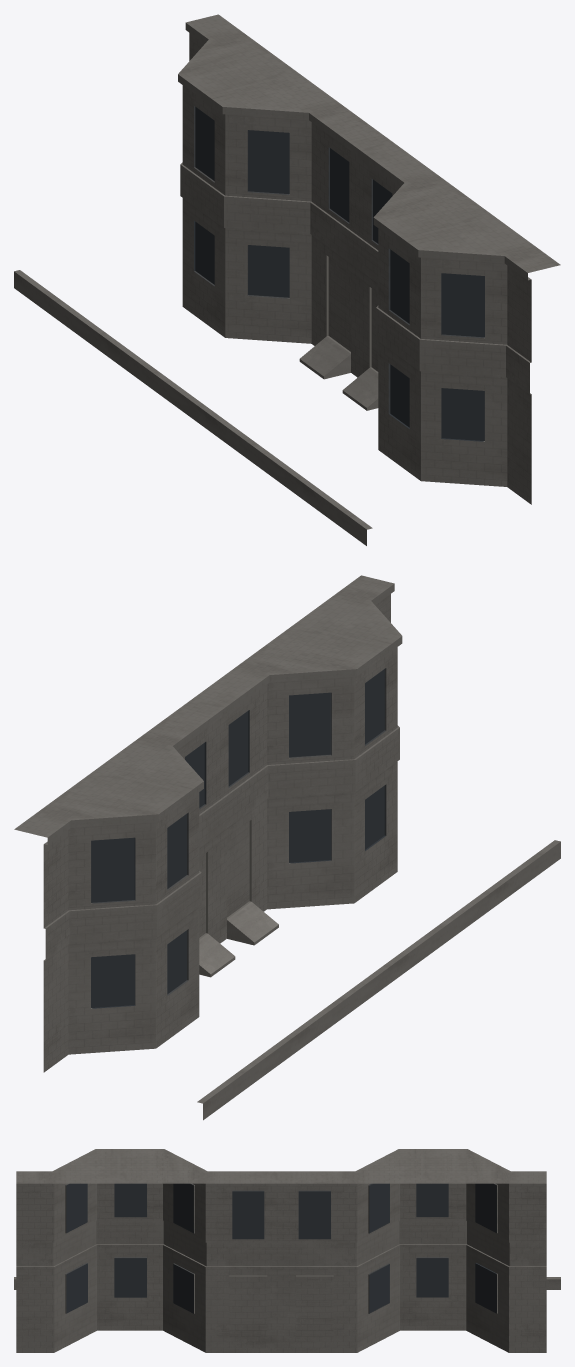
Rendered from house.dae.
The picture shows the model from 3 angles, top to bottom: view 1: azimuth 30°, elevation 25°; view 2: azimuth 150°, elevation 25°; view 3: azimuth 270°, elevation 25°; orthographic projection. The views are drawn at different scales.
Visible parts, largest first — view 1: Building, Wall, Stairs; view 2: Building, Wall, Stairs; view 3: Building.
Boxes of the visible parts, x1,y1,x2,y2 form: Building: [178, 14, 560, 504]; Wall: [14, 270, 372, 545]; Stairs: [299, 336, 378, 410]; Building: [14, 575, 402, 1072]; Wall: [197, 840, 560, 1120]; Stairs: [199, 902, 278, 977]; Building: [16, 1149, 546, 1352].
Bounding box in the file's own units: 5.27 × 16.5 × 6.
Materials: 3 (3 with a texture image).
